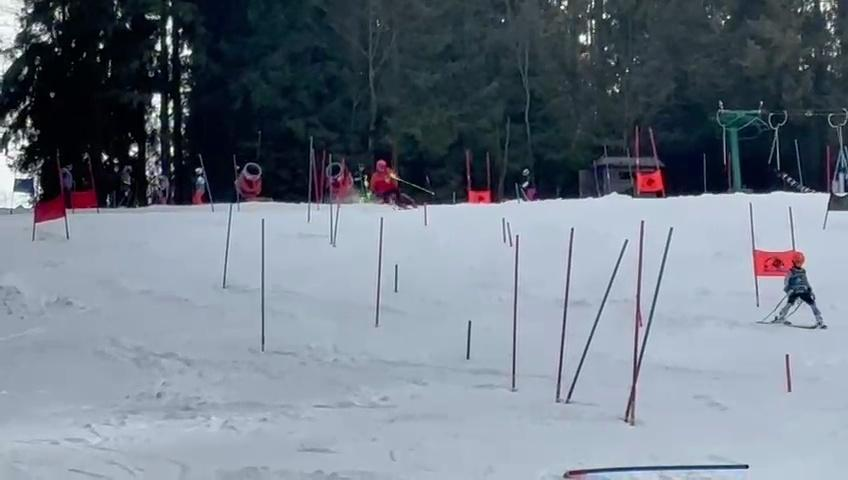gate: (564, 223, 629, 414), (627, 217, 675, 434), (550, 452, 756, 479), (551, 219, 575, 409), (256, 212, 280, 356), (747, 197, 765, 307), (644, 126, 669, 199), (333, 167, 351, 249), (815, 171, 838, 233), (222, 192, 235, 296), (198, 144, 215, 214), (512, 237, 519, 394), (59, 163, 72, 242), (227, 153, 245, 210), (628, 127, 641, 201), (777, 342, 793, 396), (375, 213, 382, 331), (460, 150, 474, 206), (305, 141, 314, 224), (326, 159, 334, 248), (484, 147, 494, 208), (465, 316, 474, 363), (418, 200, 432, 229), (393, 261, 400, 293), (498, 215, 506, 243), (505, 222, 513, 246)
